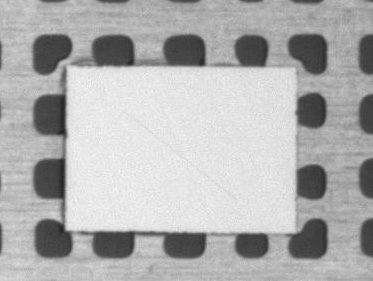DIE_CRACK: (165, 84, 315, 151)
